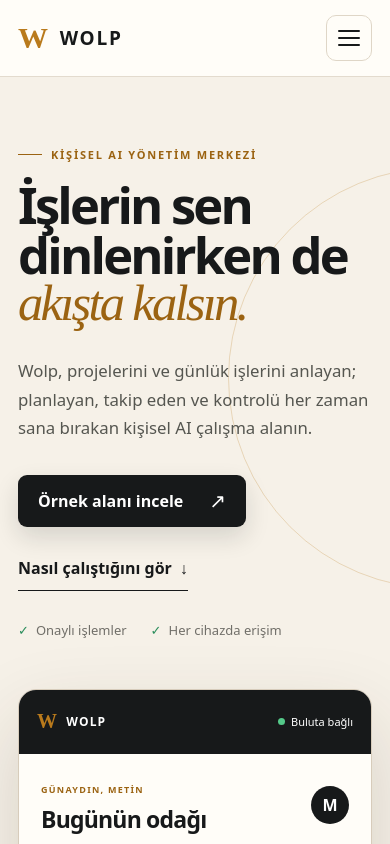
Test: Wolp demo sitesi › mobil menü durumunu erişilebilir biçimde değiştirir
This screenshot has width=390, height=844.
Click the button named "Menüyü aç" at (349, 38), box [326, 15, 372, 61]
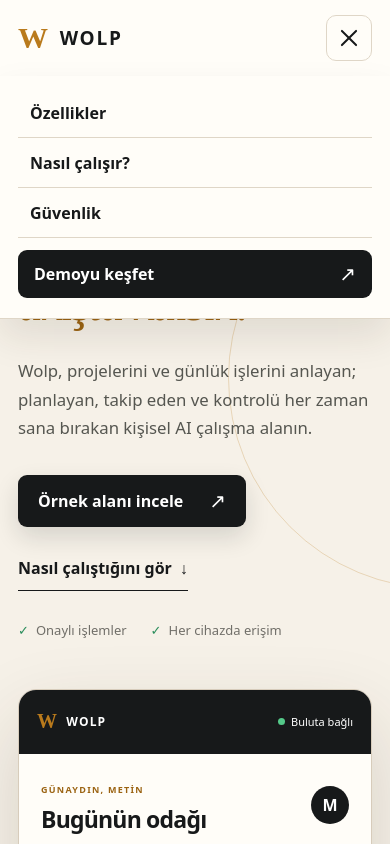
Check: the button named "Menüyü kapat" is expanded, box [326, 15, 372, 61]
Press Escape
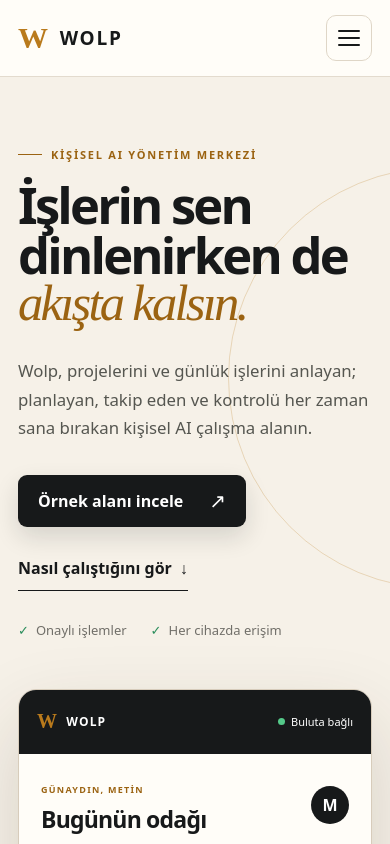
Check: the button named "Menüyü aç" is collapsed, box [326, 15, 372, 61]
